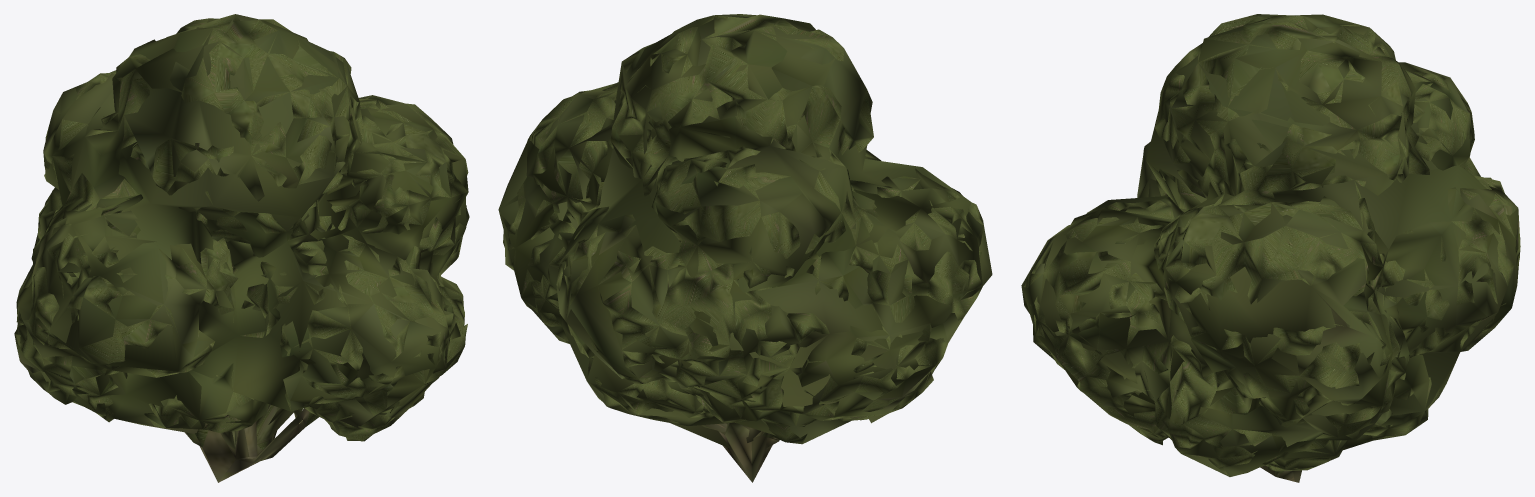
File: arbusto_bayas.glb
The picture shows the model from 3 angles, left to right: view 1: azimuth 30°, elevation 25°; view 2: azimuth 150°, elevation 25°; view 3: azimuth 270°, elevation 25°; orthographic projection. The views are drawn at different scales.
Visible parts, largest first — view 1: medio, cerca, lejos; view 2: cerca, medio, lejos; view 3: cerca, medio, lejos.
Boxes of the visible parts, left/top/right/bottom form: medio: left=16, top=14, right=469, bottom=480; cerca: left=14, top=14, right=469, bottom=482; lejos: left=16, top=18, right=466, bottom=436; cerca: left=499, top=14, right=983, bottom=482; medio: left=499, top=14, right=992, bottom=481; lejos: left=498, top=26, right=971, bottom=448; cerca: left=1022, top=14, right=1520, bottom=481; medio: left=1021, top=14, right=1520, bottom=482; lejos: left=1033, top=14, right=1503, bottom=476.
Bounding box in the file's own units: 0.9594 × 0.95 × 0.9232.
2 materials, 1 textured.
